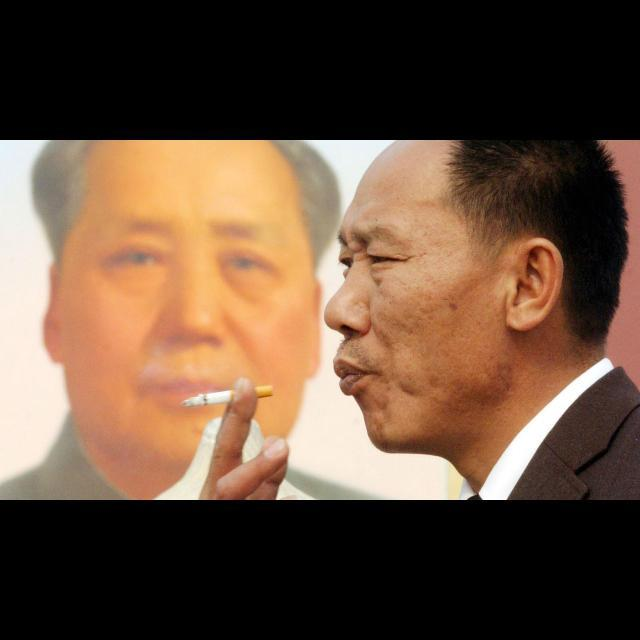rokok: (176, 382, 280, 414)
